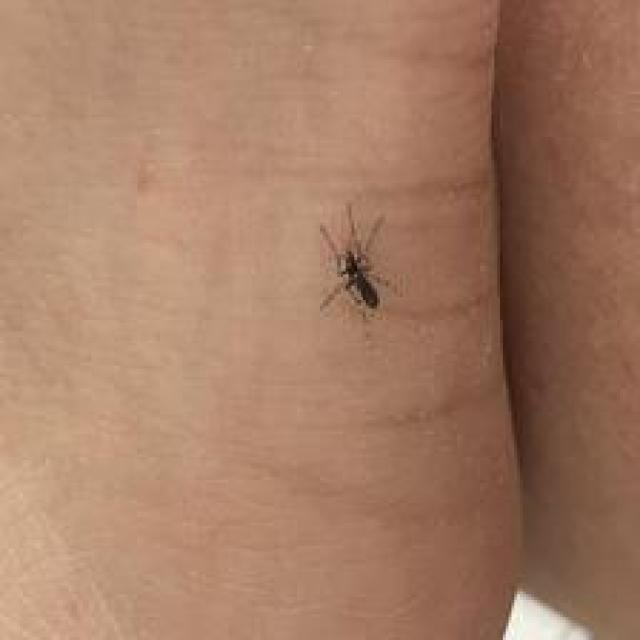Aedes albopictus: (316, 202, 396, 322)
